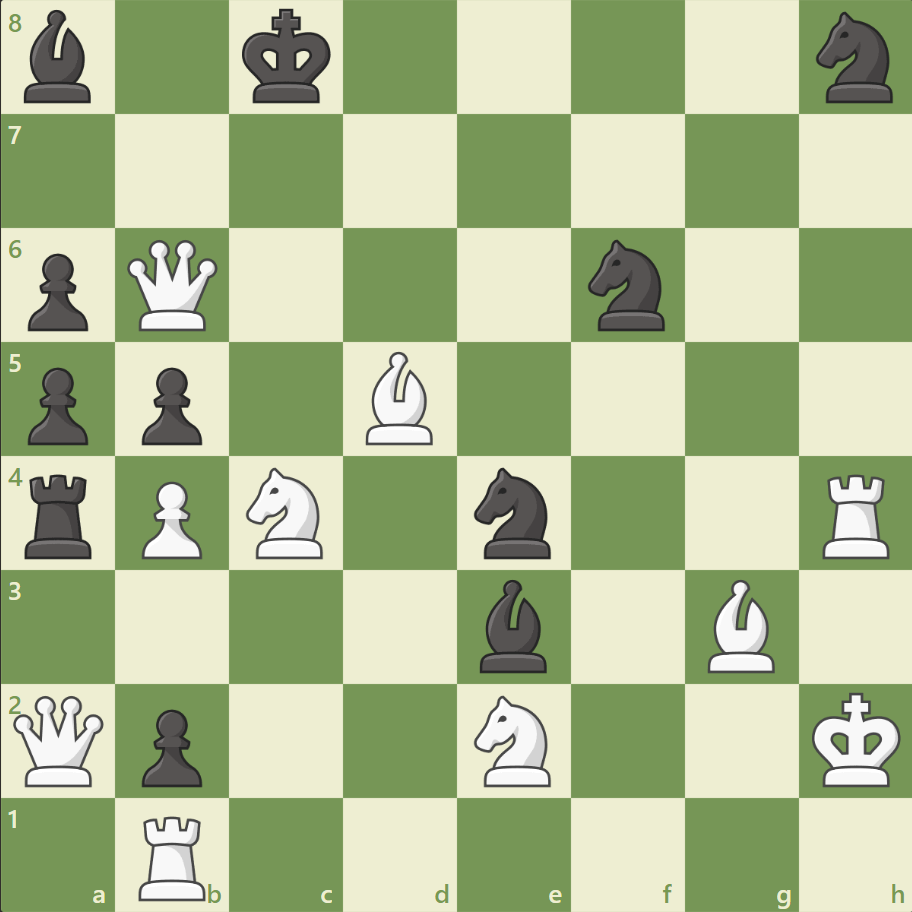B: (358, 347, 442, 449), (698, 574, 782, 676)
K: (806, 685, 906, 793)
N: (238, 461, 335, 564), (465, 688, 562, 791)
P: (133, 473, 208, 564)
Q: (124, 236, 223, 335), (10, 690, 109, 789)
R: (814, 466, 897, 563), (133, 806, 215, 904)
b: (17, 6, 101, 109), (471, 574, 555, 676)
k: (238, 4, 338, 112)
n: (806, 7, 903, 110), (579, 234, 676, 337), (465, 461, 562, 564)
p: (20, 246, 95, 337), (20, 359, 95, 450), (133, 359, 208, 450), (133, 700, 208, 791)
r: (19, 466, 102, 563)
